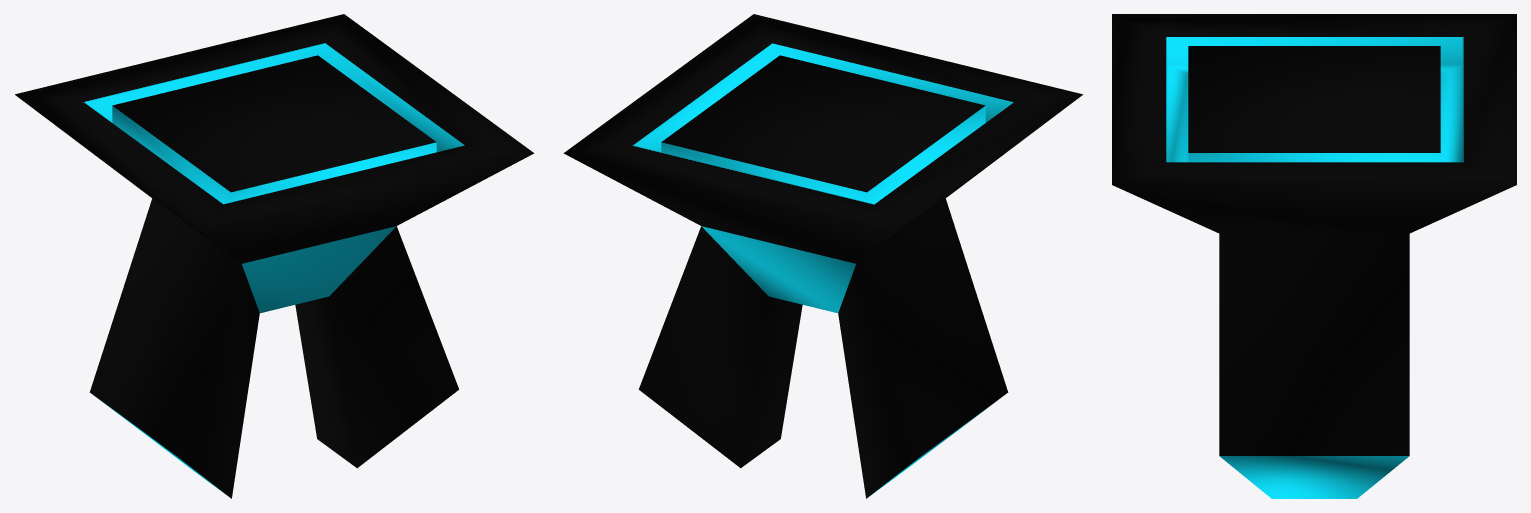
The model's file is Platform2.fbx.
The picture shows the model from 3 angles, left to right: view 1: azimuth 30°, elevation 25°; view 2: azimuth 150°, elevation 25°; view 3: azimuth 270°, elevation 25°; orthographic projection. The views are drawn at different scales.
Visible parts, largest first — view 1: Plane; view 2: Plane; view 3: Plane.
Boxes of the visible parts, x1,y1,x2,y2 form: Plane: (15,14,534,498); Plane: (563,14,1082,498); Plane: (1112,14,1516,498).
Bounding box in the file's own units: 2 × 2 × 2.
Materials: 2 (2 with a texture image).
